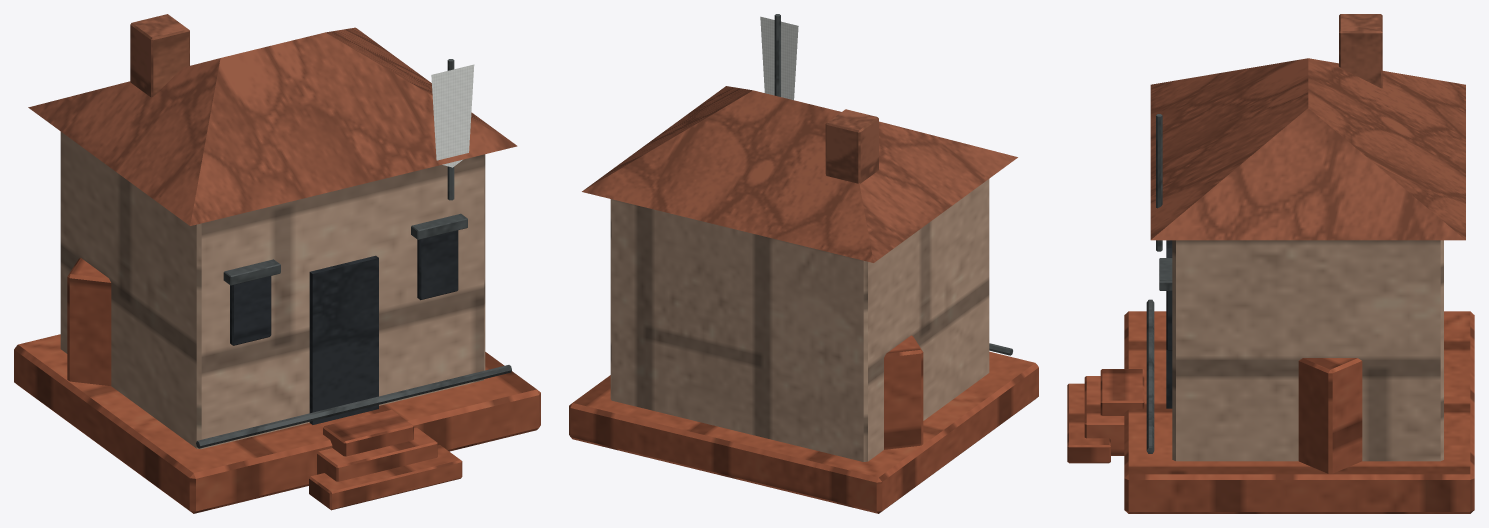
Rendered from edificio-house-e3-mIfKYWku.glb.
3 renders of one model, left to right at view 1: azimuth 30°, elevation 25°; view 2: azimuth 150°, elevation 25°; view 3: azimuth 270°, elevation 25°, orthographic. The views are drawn at different scales.
Parts seen in each view (by area): view 1: casa_e3_envolvente, casa_e3_detalles, casa_e3_team_color; view 2: casa_e3_envolvente, casa_e3_detalles, casa_e3_team_color; view 3: casa_e3_envolvente, casa_e3_detalles.
Boxes of the visible parts, <box> form: casa_e3_envolvente: <box>14,132,540,513</box>; casa_e3_detalles: <box>28,14,517,448</box>; casa_e3_team_color: <box>431,64,474,167</box>; casa_e3_envolvente: <box>569,179,1038,513</box>; casa_e3_detalles: <box>582,14,1017,355</box>; casa_e3_team_color: <box>760,16,798,100</box>; casa_e3_envolvente: <box>1067,240,1474,513</box>; casa_e3_detalles: <box>1146,14,1465,453</box>.
Bounding box in the file's own units: 45 × 46.5 × 46.5.
3 materials, 3 textured.
